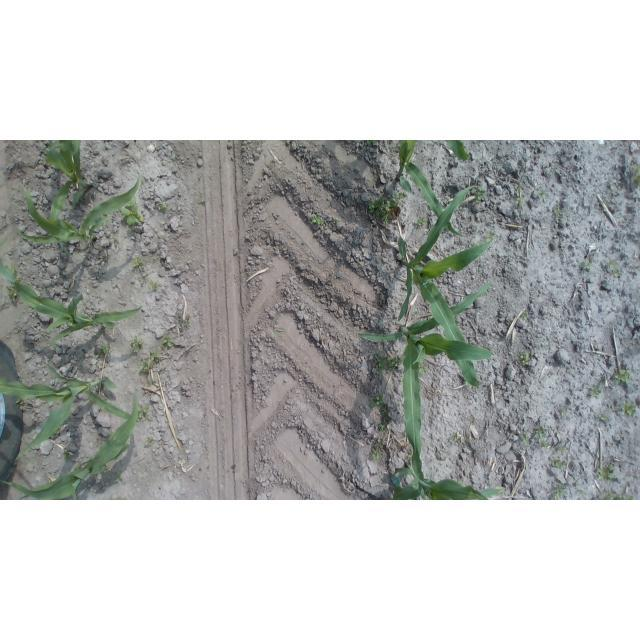Maize: (358, 280, 490, 493), (399, 182, 493, 388), (0, 237, 144, 348), (1, 396, 140, 501), (0, 358, 140, 462), (18, 177, 142, 248), (393, 141, 471, 238), (390, 457, 506, 500), (44, 140, 93, 224)
Weeds: (368, 191, 405, 225), (121, 197, 145, 226), (375, 351, 402, 374), (137, 350, 163, 373), (596, 461, 615, 484), (128, 334, 144, 354), (138, 276, 159, 291), (95, 342, 112, 359), (614, 368, 632, 384), (470, 188, 486, 205), (138, 403, 153, 421), (604, 492, 637, 500), (372, 436, 383, 460), (369, 392, 385, 408), (551, 484, 566, 501), (132, 257, 149, 272), (605, 259, 619, 277), (551, 456, 567, 471), (160, 333, 175, 349), (623, 400, 637, 417), (4, 284, 16, 301), (311, 213, 325, 227), (16, 396, 29, 411), (632, 163, 640, 185), (381, 405, 392, 421), (535, 426, 548, 439), (589, 385, 601, 399), (520, 351, 531, 366), (272, 328, 285, 339), (178, 317, 191, 328), (416, 215, 427, 227), (519, 431, 529, 443), (418, 361, 427, 374), (554, 207, 563, 220), (581, 259, 592, 269), (536, 189, 549, 197), (378, 422, 388, 432), (49, 431, 60, 440), (160, 201, 169, 212), (449, 435, 460, 443), (114, 471, 121, 483), (143, 437, 153, 445), (488, 231, 495, 242), (611, 178, 617, 190), (364, 140, 376, 146), (600, 412, 609, 420), (64, 452, 73, 460), (8, 265, 17, 273), (16, 276, 24, 284), (516, 197, 524, 205), (112, 236, 120, 244), (40, 149, 49, 156), (522, 311, 529, 320), (557, 445, 566, 452), (104, 465, 113, 472), (333, 219, 341, 226), (514, 184, 521, 192), (561, 408, 567, 417), (540, 441, 549, 447), (197, 196, 203, 204), (72, 463, 80, 469), (72, 342, 81, 347), (63, 245, 69, 252), (408, 452, 413, 460), (24, 347, 33, 351), (411, 312, 417, 318), (578, 490, 585, 495), (59, 356, 64, 362), (236, 384, 241, 389), (114, 496, 120, 500), (41, 401, 48, 404), (16, 316, 21, 320), (32, 174, 36, 178), (40, 160, 43, 165), (10, 164, 15, 167), (68, 333, 72, 336), (329, 172, 332, 176), (96, 244, 99, 248)
